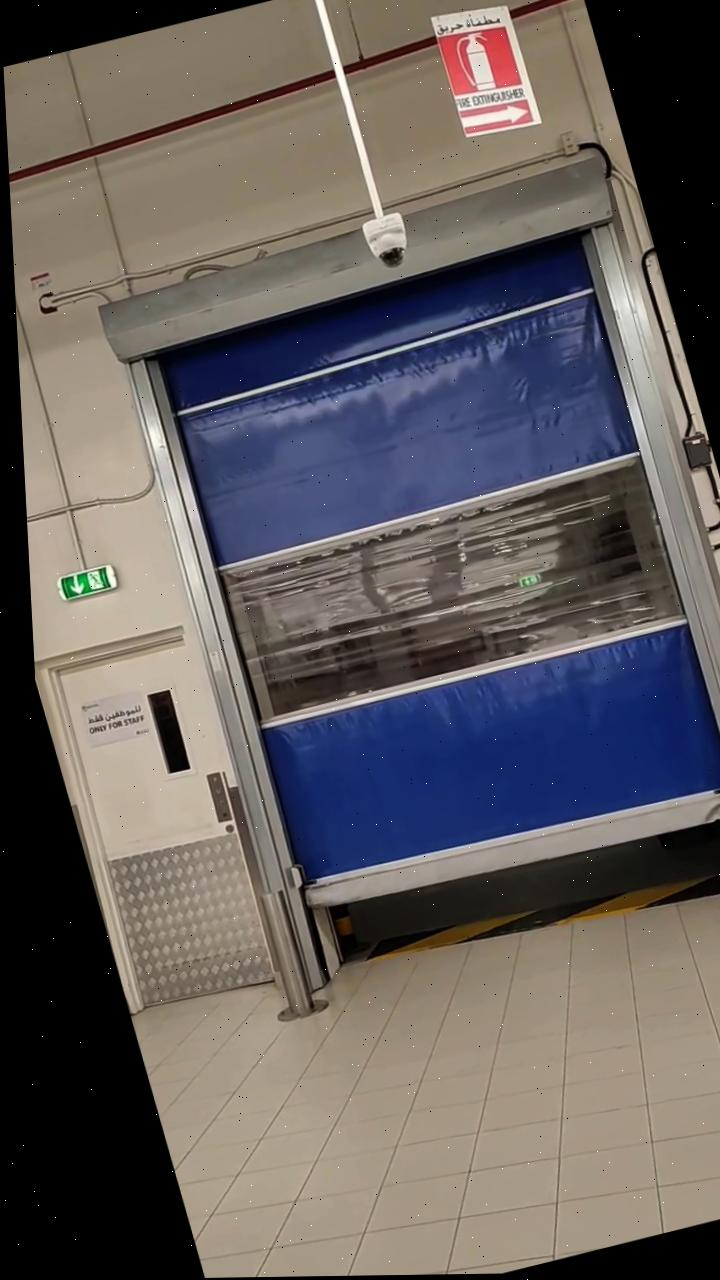Strip: (345, 846, 720, 983)
